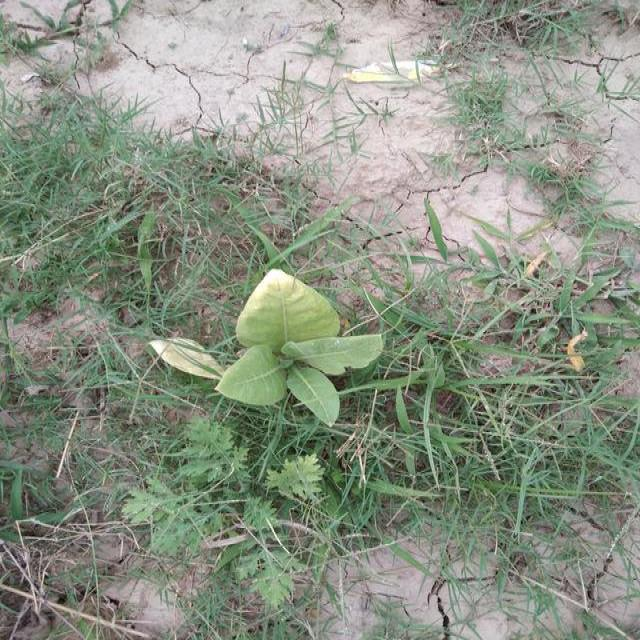crop: (144, 258, 396, 429)
